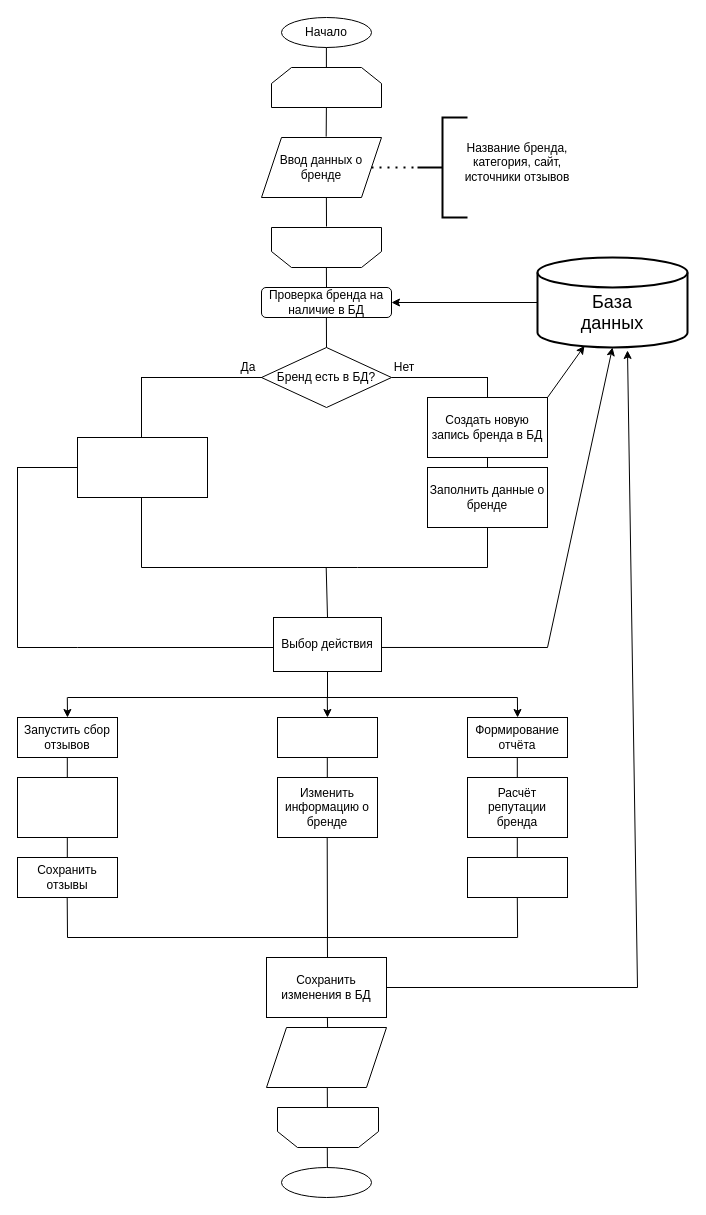
Some shapes in this 706 by 1215 pixel diagram are drawn without their labels. Here are the shapes that lost their labels. From the top down, the box of each, then its label:
(270, 66, 382, 108): Модуль сбора данных
(76, 436, 208, 498): Загрузить данные о репутации бренда из БД
(276, 716, 378, 758): Обновить данные о бренде
(16, 776, 118, 838): Получить данные из интернета
(466, 856, 568, 898): Вывод аналитики
(266, 1026, 386, 1088): Вывод отчёта о репутации
(280, 1166, 372, 1198): Конец
